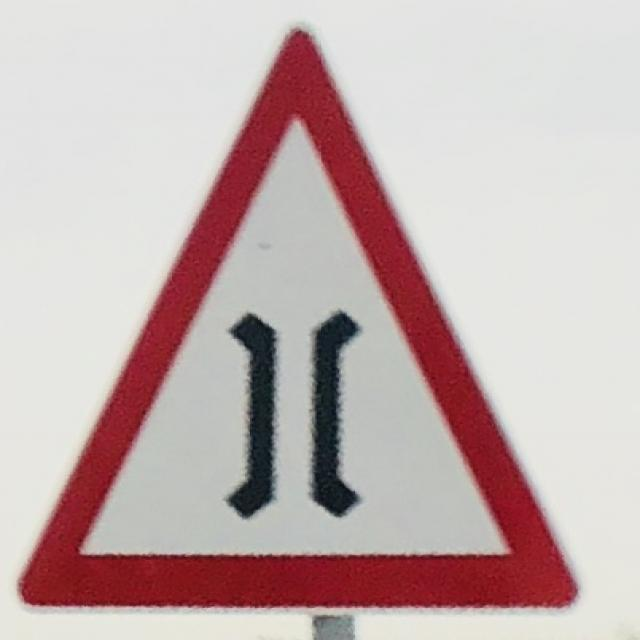narrow bridge ahead: (25, 31, 574, 606)
